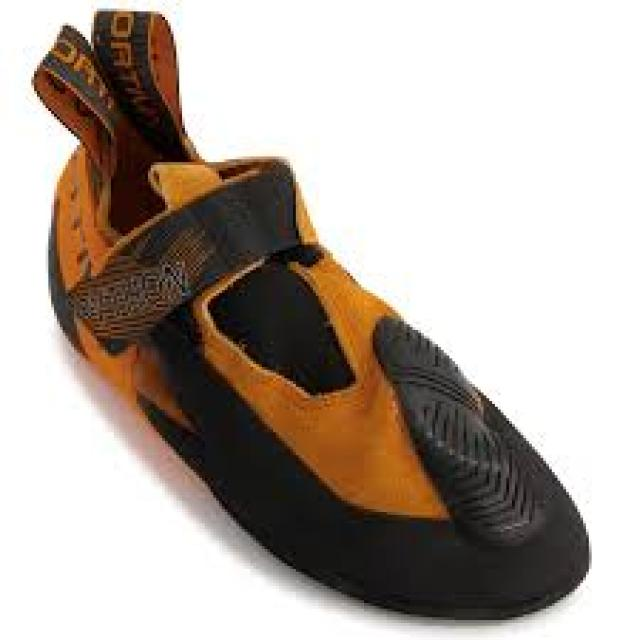climbing-shoes: (34, 8, 593, 623)
